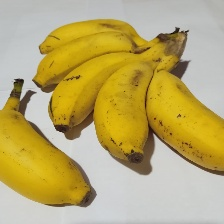banana: (45, 32, 220, 186)
